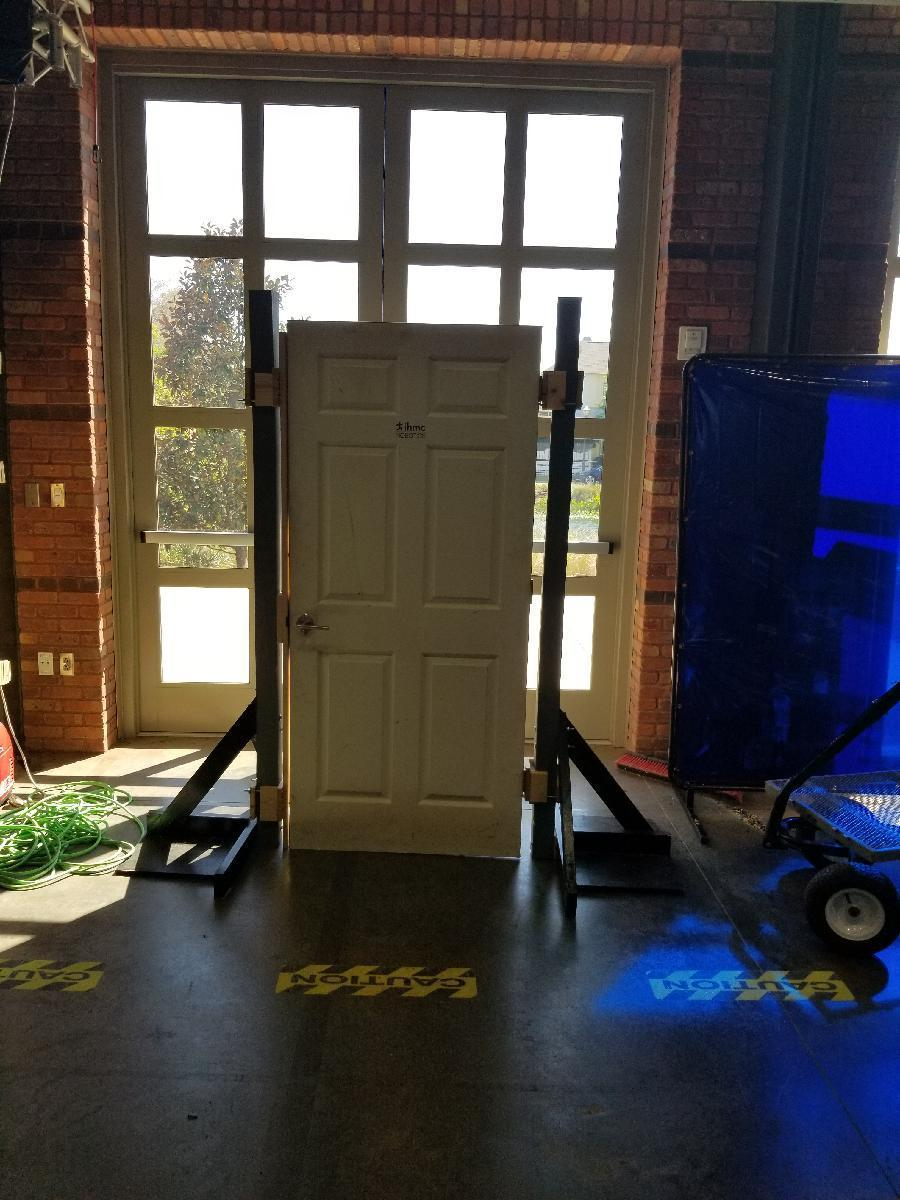door: (285, 320, 528, 860)
handle: (291, 613, 330, 638)
